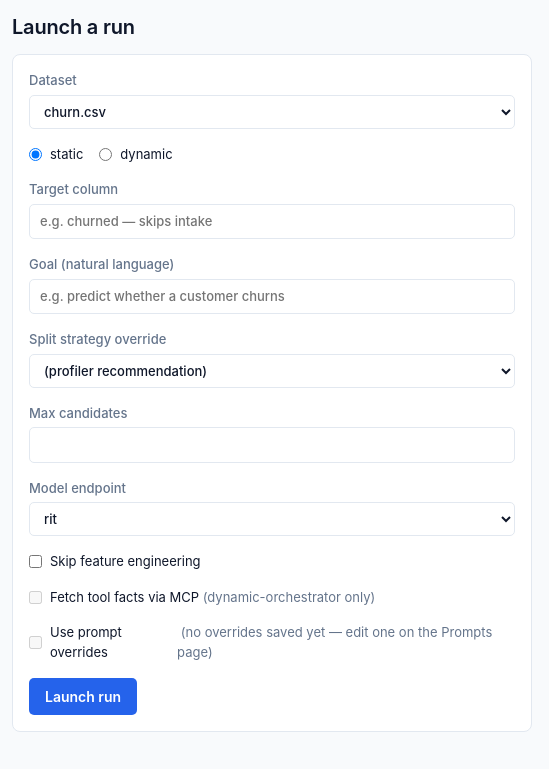
Test: LaunchPage › disables the MCP toggle for the static orchestrator and enables it for dynamic
Expected: the dropdown showing "churn.csv" is shown, x1=29 y1=94 x2=515 y2=128
Expected: the checkbox labelled "Fetch tool facts via MCP (dynamic-orchestrator only)" is disabled, x1=29 y1=591 x2=42 y2=604
Click the radio button labelled "dynamic": (106, 154) x1=99 y1=148 x2=112 y2=161
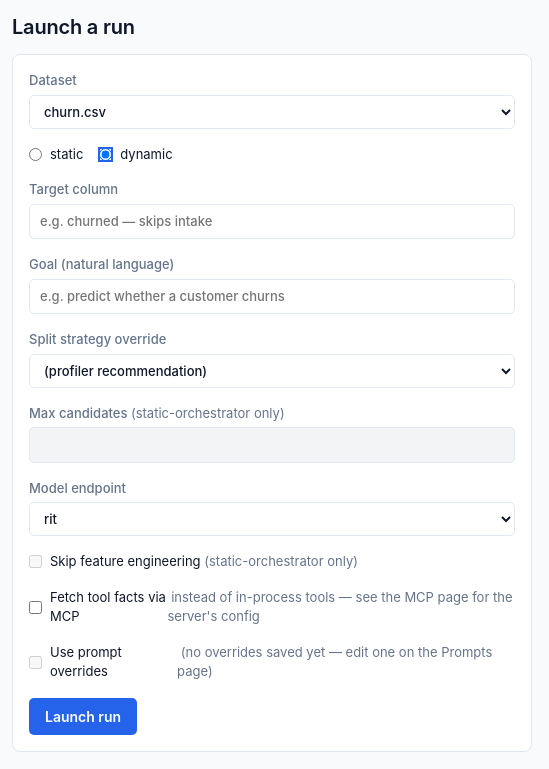
Expected: the checkbox labelled "Fetch tool facts via MCP" is enabled, x1=29 y1=600 x2=42 y2=614
